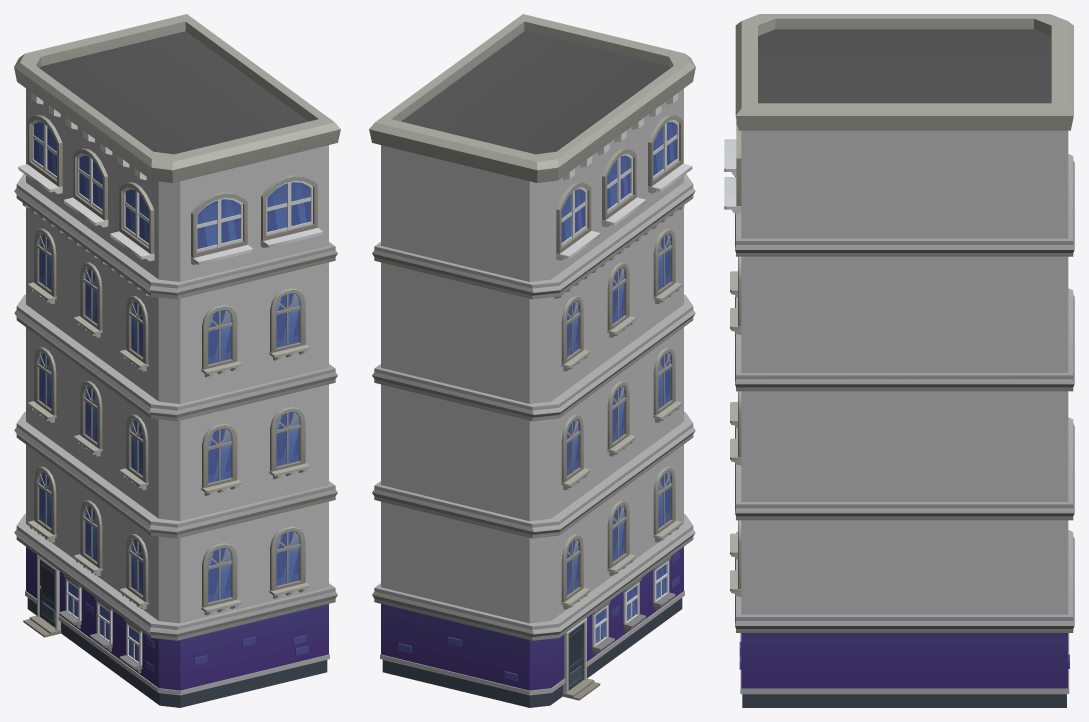
Rendered from Building_18_1_P.fbx.
3 views of the same model, side by side, from view 1: azimuth 30°, elevation 25°; view 2: azimuth 150°, elevation 25°; view 3: azimuth 270°, elevation 25° (orthographic). The views are drawn at different scales.
Visible parts, largest first — view 1: Building_18_1_P; view 2: Building_18_1_P; view 3: Building_18_1_P.
Part boxes in pixels (box(x1,y1,x2,y2)): Building_18_1_P: box(14, 14, 340, 707); Building_18_1_P: box(369, 14, 695, 707); Building_18_1_P: box(724, 14, 1074, 707).
Bounding box in the file's own units: 719 × 2014 × 1059.
